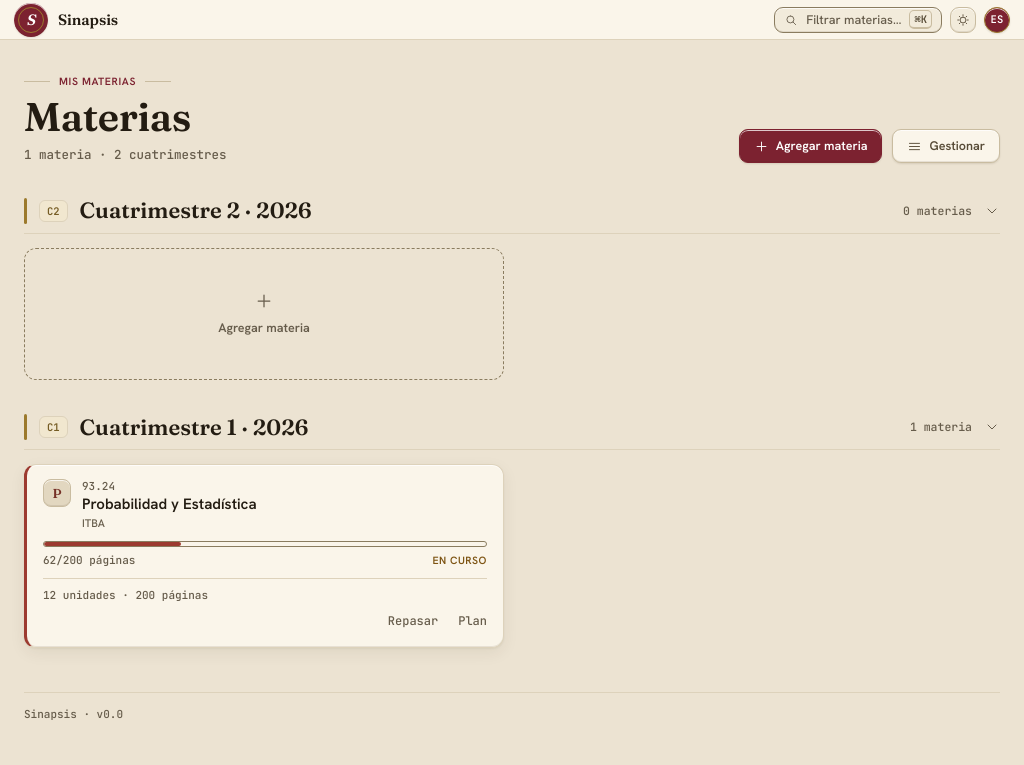
Scenario: <LandingPage/> con un cuatrimestre vacío › en gestión ofrece asa siempre y «Quitar cuatrimestre» apagado si tiene materias
Expected: the element "Cuatrimestre 2 · 2026" is shown, 24,189 -> 1000,380
Click the button "Gestionar" at (946, 146), box 892,129 -> 1000,163
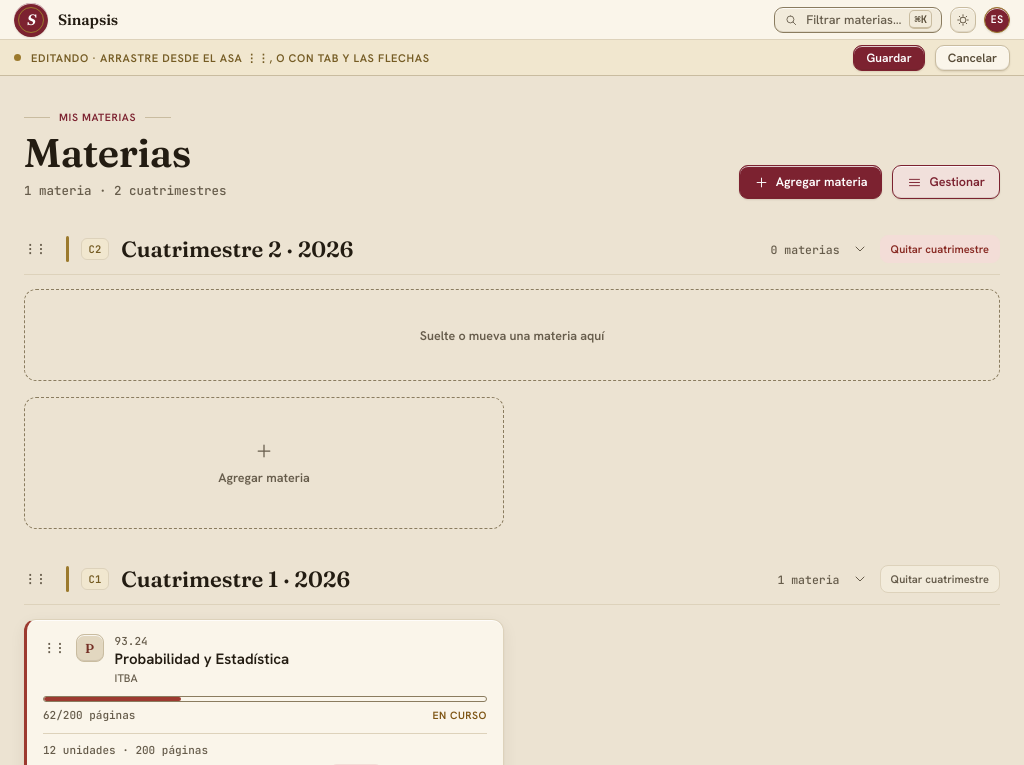
Expected: the button named "Reordenar Cuatrimestre 2 · 2026" is shown, 16,233 -> 54,265
Expected: the button named "Reordenar Cuatrimestre 1 · 2026" is shown, 16,563 -> 54,595
Expected: the 1st button "Quitar cuatrimestre" is enabled, 880,235 -> 1000,263
